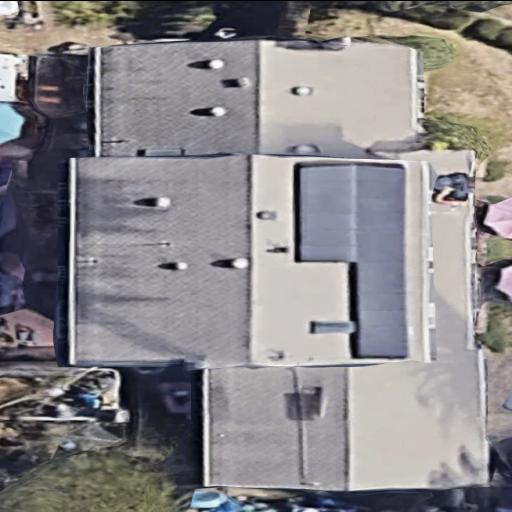Slope-Roof: (69, 39, 488, 489)
